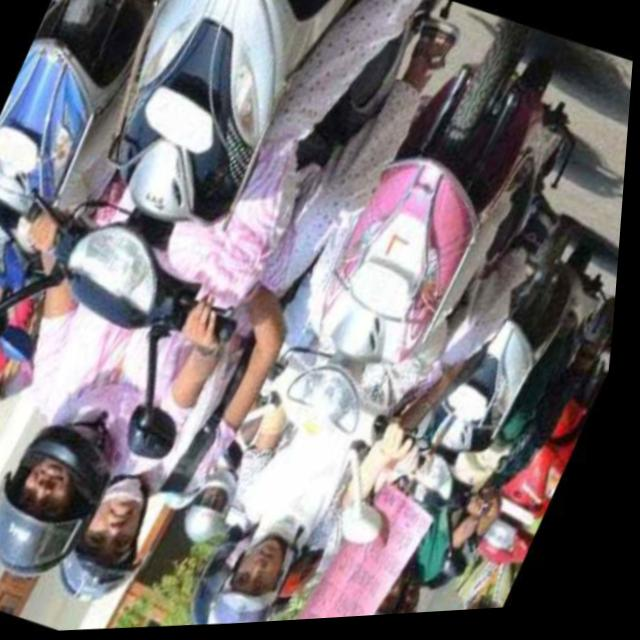WITH_HELMET: (0, 411, 130, 594), (65, 466, 181, 616), (202, 527, 317, 629), (0, 413, 4, 484)
